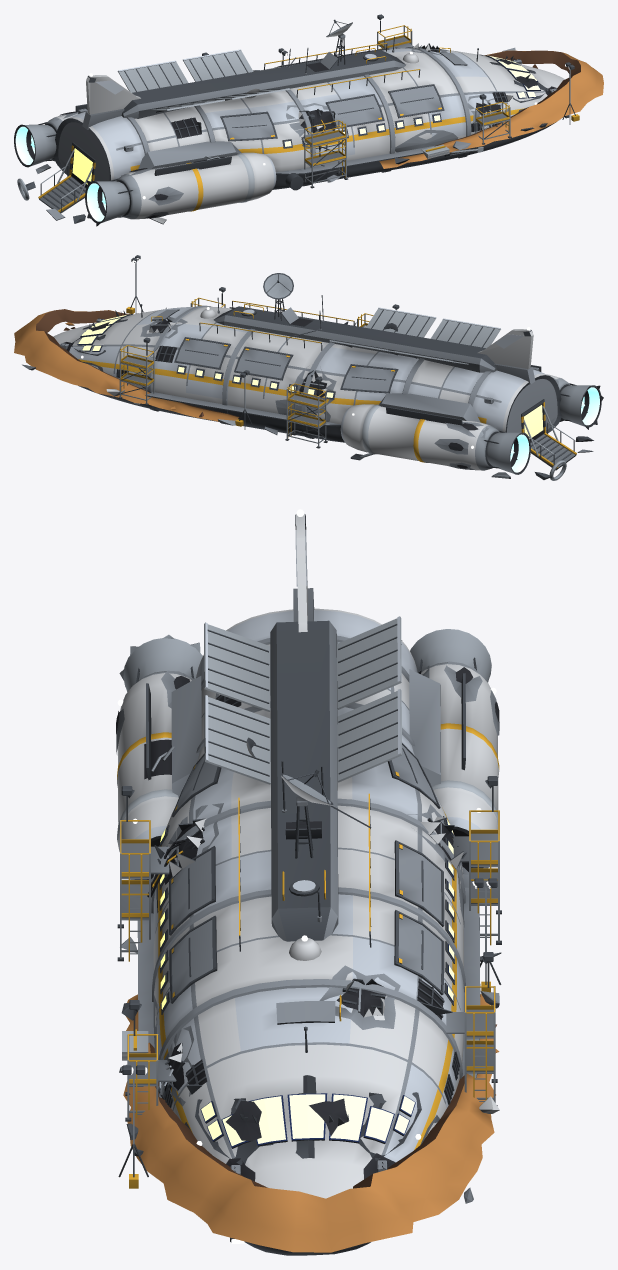
Rendered from meridian.glb.
3 views of the same model, one above another, from view 1: azimuth 30°, elevation 25°; view 2: azimuth 150°, elevation 25°; view 3: azimuth 270°, elevation 25° (orthographic). The views are drawn at different scales.
Visible parts, largest first — view 1: Hull, Damage1, Scaffold, Damage3, Lights, Damage2, EngineGlow; view 2: Hull, Damage1, Scaffold, Damage3, Lights, EngineGlow, Damage2; view 3: Hull, Damage1, Scaffold, Lights, Damage2, Damage3.
Part boxes in pixels (x1,y1,x2,y2): Hull: (14,19,569,223); Damage1: (171,43,603,182); Scaffold: (202,14,579,190); Damage3: (17,111,230,226); Lights: (72,51,569,199); Damage2: (245,52,556,156); EngineGlow: (15,126,105,221); Hull: (53,273,601,474); Damage1: (14,309,366,434); Scaffold: (118,255,399,448); Damage3: (350,378,603,480); Lights: (78,307,543,448); EngineGlow: (510,387,599,472); Damage2: (63,307,397,425); Hull: (117,513,499,1255); Damage1: (119,695,501,1252); Scaffold: (117,776,501,1188); Lights: (117,509,496,1243); Damage2: (126,737,499,1181); Damage3: (116,634,499,779).
Size of the model in its own units: 46.59 by 11.82 by 13.93.
